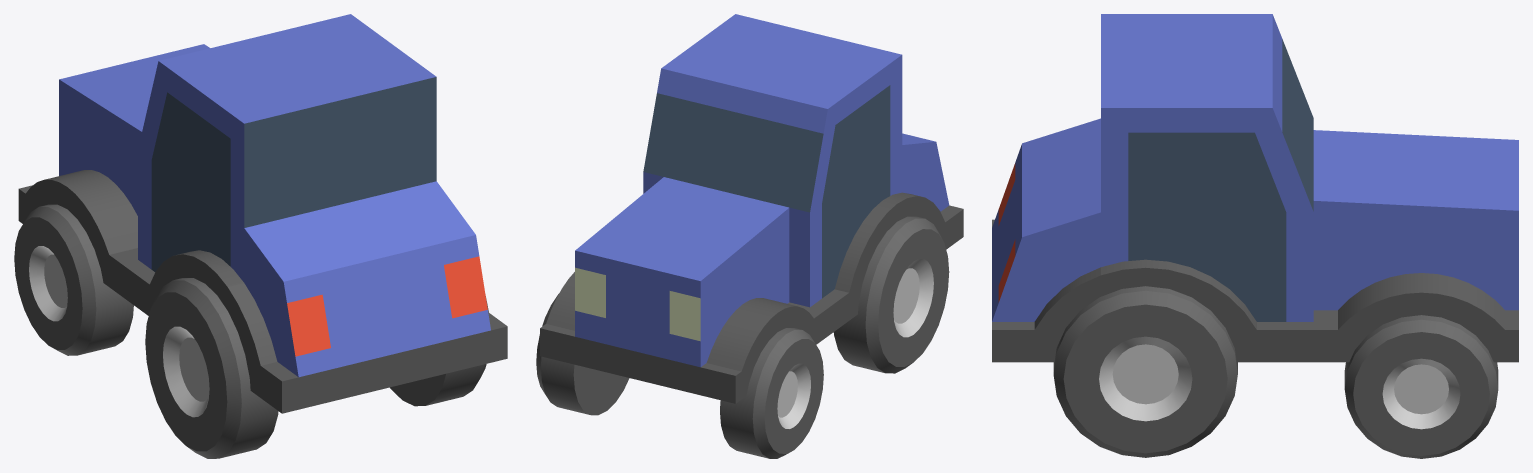
Rendered from carTractor.fbx.
The picture shows the model from 3 angles, left to right: view 1: azimuth 30°, elevation 25°; view 2: azimuth 150°, elevation 25°; view 3: azimuth 270°, elevation 25°; orthographic projection. The views are drawn at different scales.
Parts seen in each view (by area): view 1: body 11, wheelBackLeft 11, wheelFrontLeft 11, wheelBackRight 11; view 2: body 11, wheelBackLeft 11, wheelFrontLeft 11, wheelFrontRight 11; view 3: body 11, wheelBackRight 11, wheelFrontRight 11.
Part boxes in pixels (x1=…): body 11: x1=18, y1=14, x2=507, y2=413; wheelBackLeft 11: x1=145, y1=278, x2=278, y2=458; wheelFrontLeft 11: x1=14, y1=204, x2=133, y2=355; wheelBackRight 11: x1=390, y1=296, x2=488, y2=406; body 11: x1=540, y1=14, x2=963, y2=403; wheelBackLeft 11: x1=833, y1=216, x2=949, y2=373; wheelFrontLeft 11: x1=720, y1=328, x2=823, y2=458; wheelFrontRight 11: x1=536, y1=294, x2=629, y2=415; body 11: x1=992, y1=14, x2=1518, y2=362; wheelBackRight 11: x1=1053, y1=286, x2=1237, y2=457; wheelFrontRight 11: x1=1344, y1=315, x2=1498, y2=458.
Bounding box in the file's own units: 5.55 × 6.83 × 9.6.
